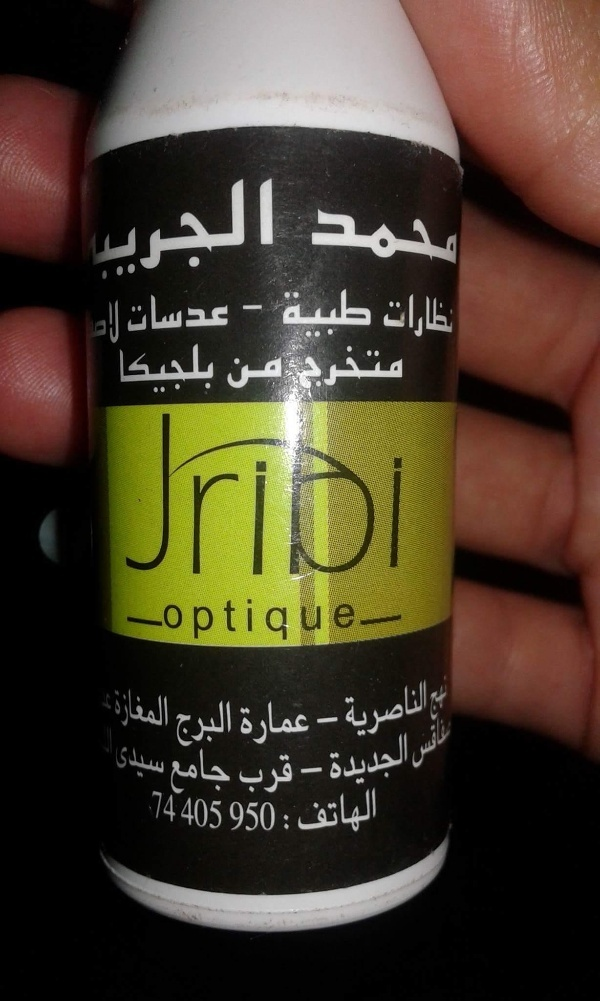text: (129, 413, 144, 576), (145, 413, 160, 576), (161, 413, 176, 576), (177, 413, 192, 576), (193, 413, 208, 576), (209, 413, 224, 576), (225, 413, 240, 576), (241, 413, 256, 576), (257, 413, 272, 576), (273, 413, 288, 576), (289, 413, 304, 576), (305, 413, 320, 576), (321, 413, 336, 576), (337, 413, 352, 576), (353, 413, 368, 576), (369, 413, 384, 576), (385, 413, 400, 576), (97, 174, 112, 283), (113, 174, 128, 283), (129, 174, 144, 283), (145, 174, 160, 283), (161, 174, 176, 283), (177, 174, 192, 283), (193, 174, 208, 283), (209, 174, 224, 283), (225, 174, 240, 283), (241, 174, 256, 283), (257, 174, 272, 283), (401, 413, 407, 576), (321, 206, 336, 270), (337, 206, 352, 270), (353, 206, 368, 270), (369, 206, 384, 270), (385, 206, 400, 270), (401, 206, 416, 270), (417, 206, 432, 270), (433, 206, 448, 270), (353, 679, 368, 740), (369, 679, 384, 740), (385, 679, 400, 740), (401, 679, 416, 740), (337, 733, 352, 792), (353, 733, 368, 792), (369, 733, 384, 792), (385, 733, 400, 792), (417, 713, 432, 772), (433, 713, 448, 772), (305, 787, 320, 841), (321, 787, 336, 841), (337, 787, 352, 841), (353, 787, 368, 841), (433, 674, 449, 723), (129, 343, 144, 395), (145, 343, 160, 395), (161, 343, 176, 395), (177, 343, 192, 395), (193, 343, 208, 395), (177, 696, 192, 748), (193, 696, 208, 748), (209, 696, 224, 748), (289, 287, 304, 338), (305, 287, 320, 338), (321, 287, 336, 338), (337, 287, 352, 338), (353, 287, 368, 338), (177, 746, 192, 797), (193, 746, 208, 797), (209, 746, 224, 797), (89, 174, 96, 283), (97, 298, 112, 347), (385, 292, 400, 340), (401, 292, 416, 340), (417, 292, 432, 340), (433, 292, 448, 340), (129, 686, 144, 734), (145, 686, 160, 734), (241, 700, 256, 747), (257, 700, 272, 747), (273, 700, 288, 747), (289, 700, 304, 747), (305, 344, 320, 389), (321, 344, 336, 389), (337, 344, 352, 389), (353, 344, 368, 389), (369, 344, 384, 389), (385, 344, 400, 389), (177, 598, 192, 643), (193, 598, 208, 643), (209, 598, 224, 643), (225, 598, 240, 643), (241, 598, 256, 643), (257, 598, 272, 643), (273, 598, 288, 643), (289, 598, 304, 643), (305, 598, 320, 643), (321, 598, 336, 643), (337, 598, 352, 643), (114, 686, 128, 734), (417, 679, 428, 740), (129, 290, 144, 334), (145, 290, 160, 334), (161, 290, 176, 334), (177, 290, 192, 334), (193, 290, 208, 334), (209, 290, 224, 334), (241, 754, 256, 795), (257, 754, 272, 795), (273, 754, 288, 795), (129, 743, 144, 783), (145, 743, 160, 783), (449, 206, 458, 270), (241, 354, 256, 390), (257, 354, 272, 390), (164, 598, 176, 643), (161, 788, 176, 824), (327, 733, 336, 792), (401, 733, 410, 792), (115, 743, 128, 783), (193, 797, 208, 830), (125, 413, 128, 576), (369, 787, 378, 841), (241, 802, 256, 833), (257, 802, 272, 833), (209, 797, 223, 830), (228, 354, 240, 390), (345, 679, 352, 740), (120, 343, 128, 395), (409, 713, 416, 772), (113, 298, 121, 347), (161, 686, 169, 734), (225, 696, 232, 748), (273, 354, 283, 390), (182, 797, 192, 830), (298, 787, 304, 841), (315, 206, 320, 270), (209, 343, 215, 395), (230, 802, 240, 833), (282, 287, 288, 338), (225, 746, 231, 797), (152, 788, 160, 824), (305, 700, 311, 747), (91, 298, 96, 347), (449, 292, 454, 340), (449, 713, 453, 772), (225, 290, 230, 334), (172, 746, 176, 797), (161, 743, 166, 783), (321, 714, 336, 727), (280, 811, 288, 835), (289, 754, 293, 795), (369, 287, 372, 338), (241, 302, 256, 312), (305, 766, 320, 776), (429, 674, 432, 723), (401, 344, 404, 389), (353, 598, 356, 643), (273, 802, 277, 833), (289, 811, 294, 835), (273, 174, 274, 283), (302, 344, 304, 389), (238, 754, 240, 795), (257, 302, 264, 312), (315, 714, 320, 727), (383, 292, 384, 340), (127, 290, 128, 334), (300, 766, 304, 776), (337, 714, 340, 727), (321, 766, 323, 776)
